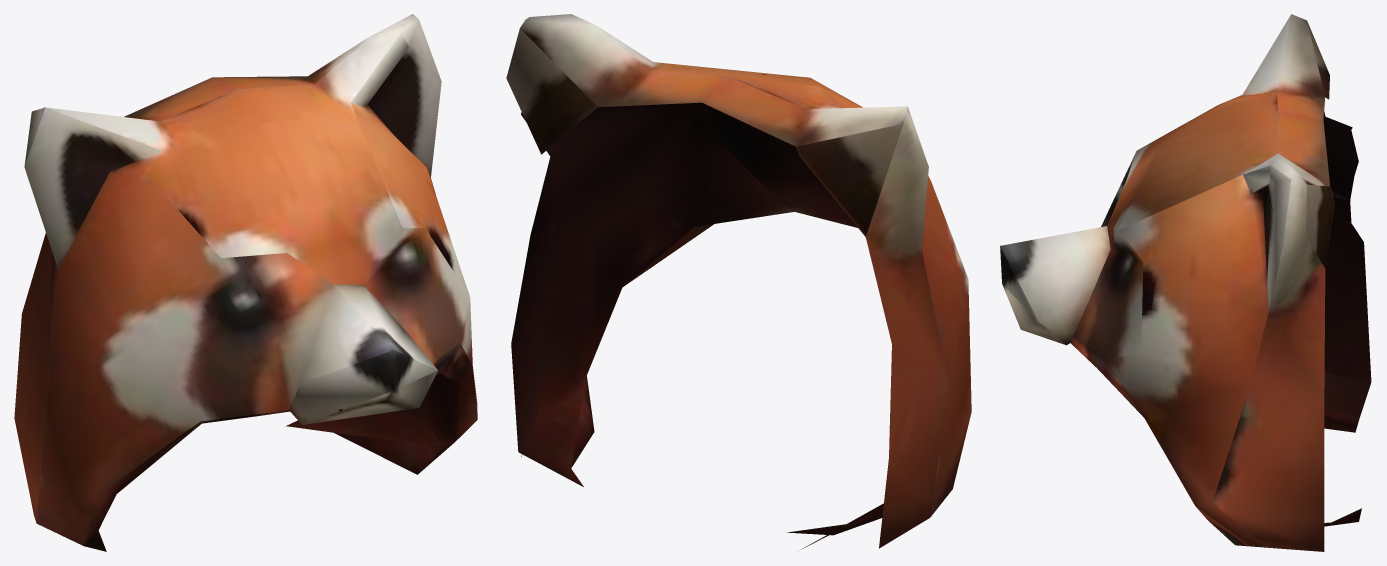
File: red-panda.glb
3 views of the same model, side by side, from view 1: azimuth 30°, elevation 25°; view 2: azimuth 150°, elevation 25°; view 3: azimuth 270°, elevation 25° (orthographic). The views are drawn at different scales.
Parts seen in each view (by area): view 1: geometry_0; view 2: geometry_0; view 3: geometry_0.
Boxes of the visible parts, box(x1,y1,x2,y2) form: geometry_0: box(14, 14, 477, 551); geometry_0: box(506, 14, 971, 549); geometry_0: box(1000, 14, 1371, 551).
Size of the model in its own units: 0.4775 by 0.4799 by 0.4176.
1 material, 1 textured.
